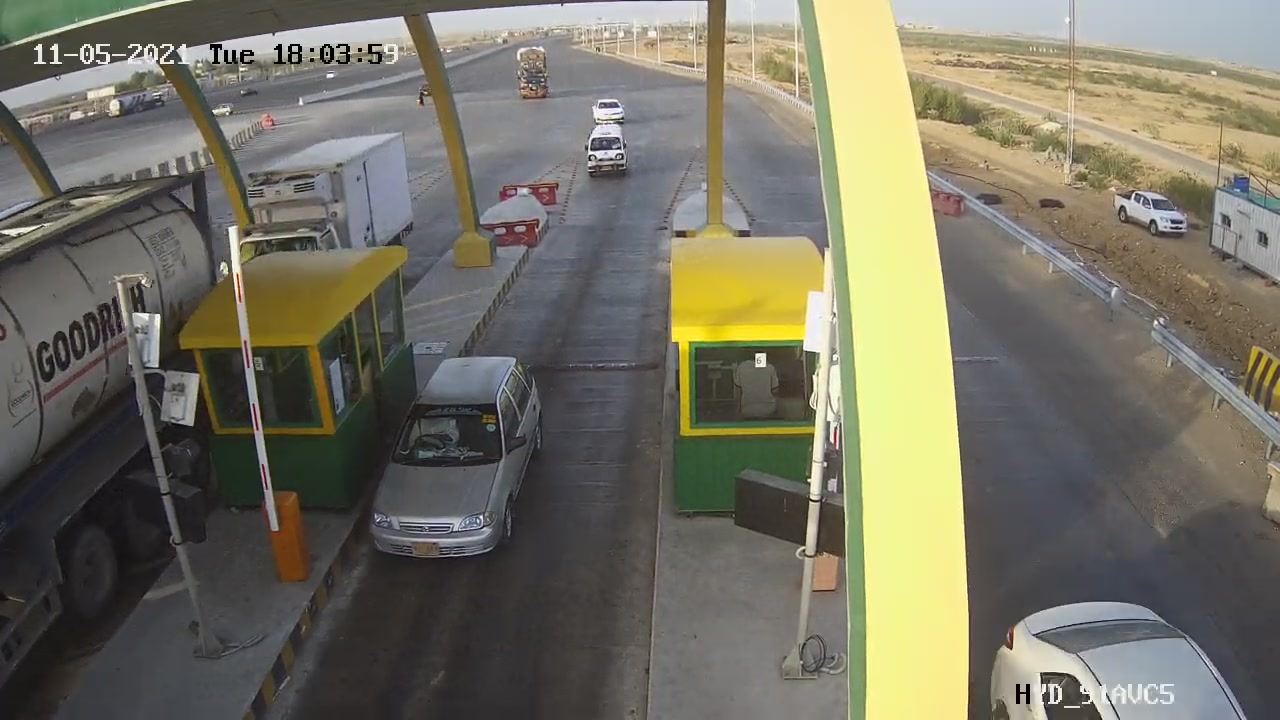F1: (352, 340, 563, 574)
